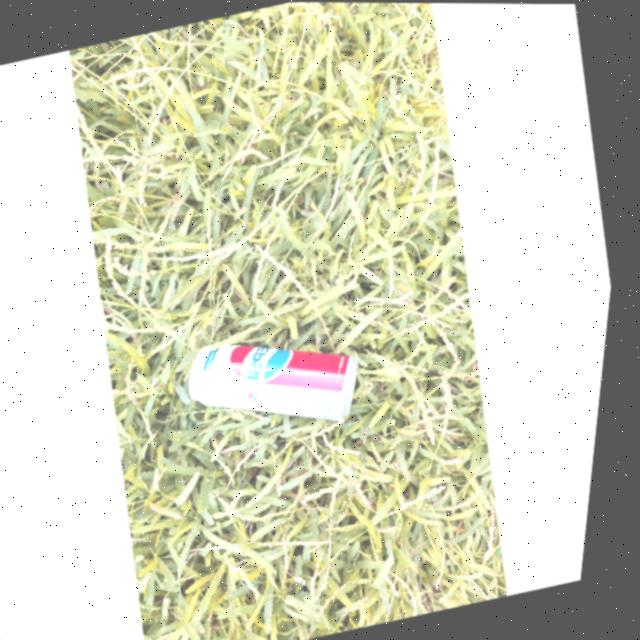Pepsi Retro: (180, 299, 384, 450)
